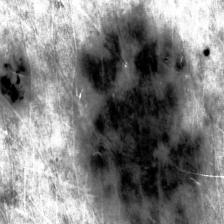Benign Marking or Mole: (76, 10, 212, 224), (0, 53, 37, 108)
